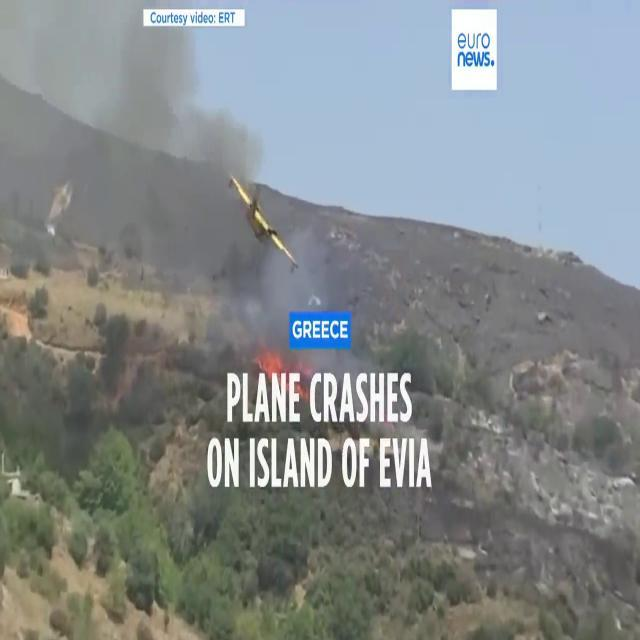Smoke: (8, 9, 329, 343)
